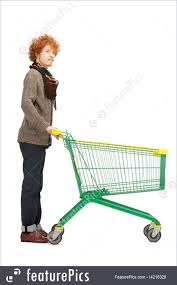with_basket: (48, 126, 166, 243)
without_mask: (30, 35, 58, 67)
